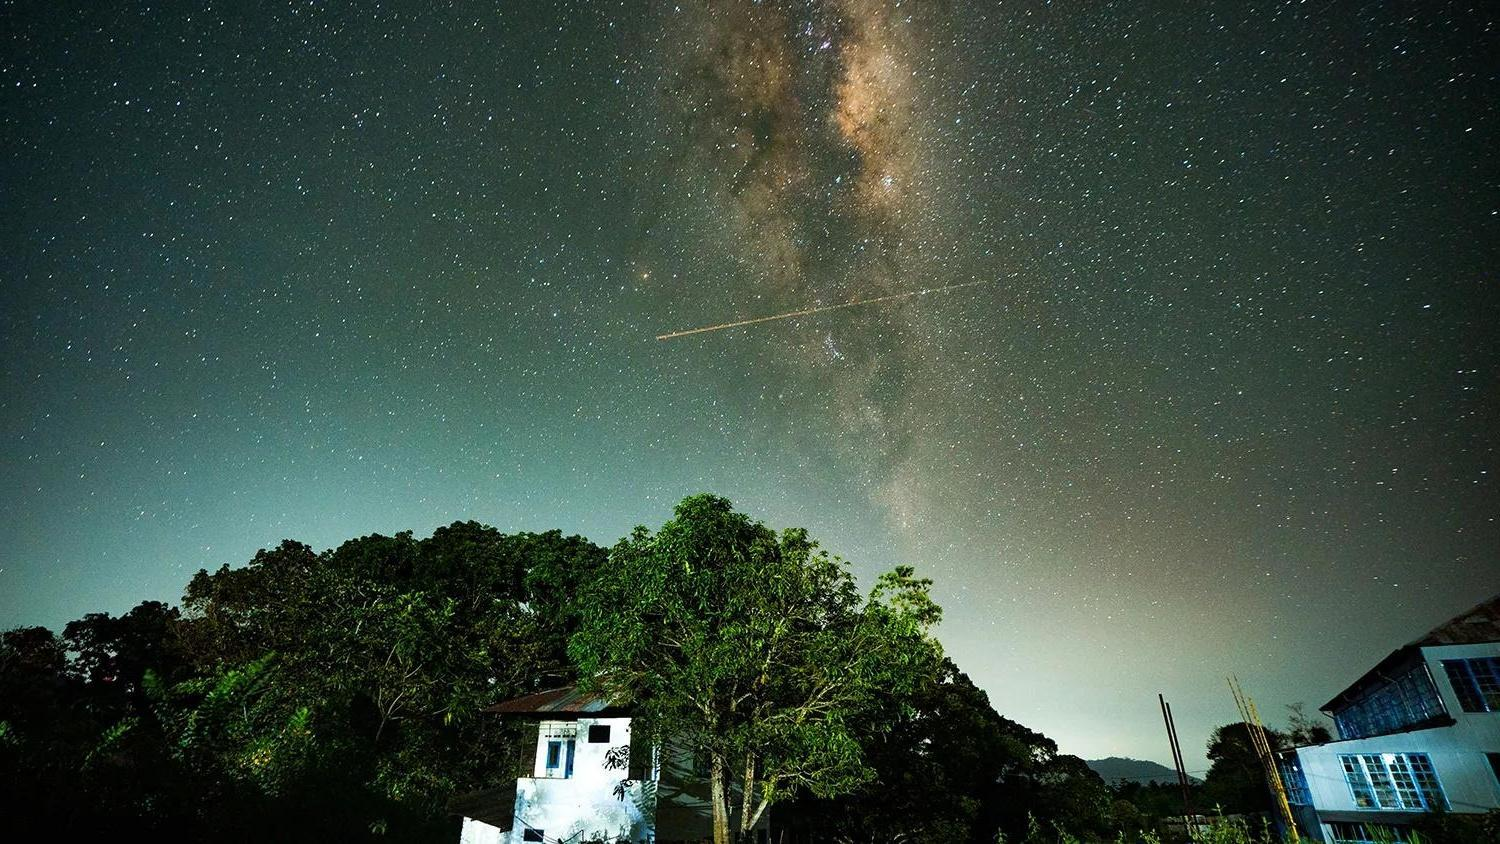meteorite: (629, 301, 846, 348)
